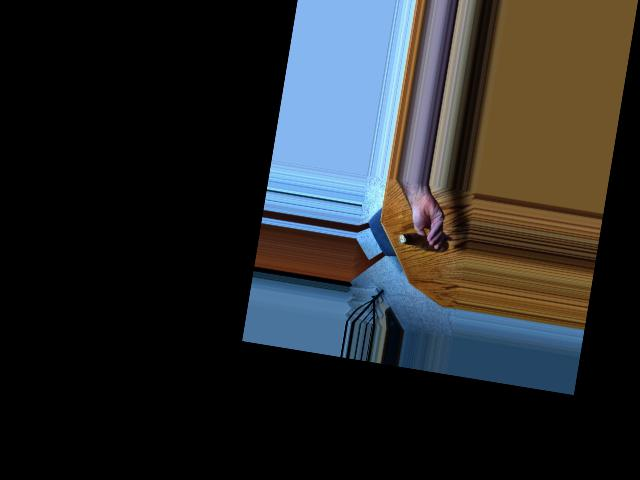sweet_potato: (402, 232, 445, 258)
